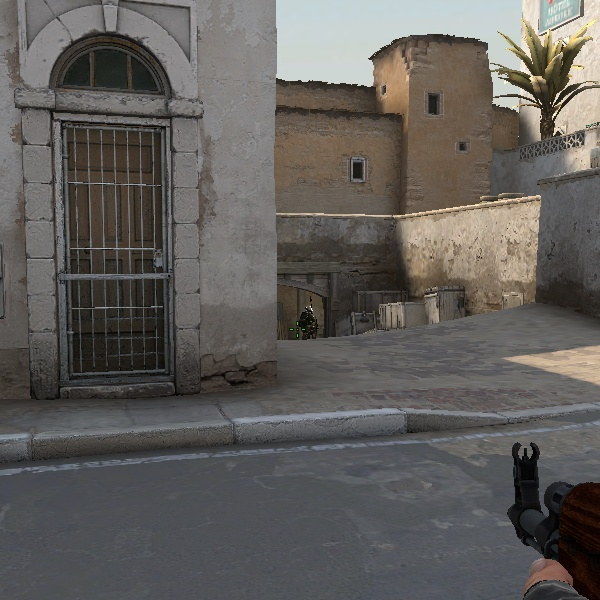ct_body: (298, 305, 318, 339)
ct_head: (305, 305, 314, 315)
